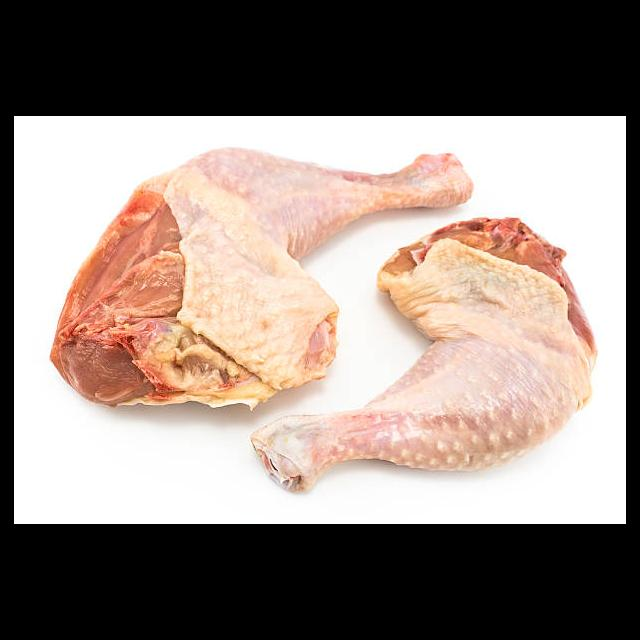chicken: (49, 146, 474, 410), (251, 215, 599, 494)
